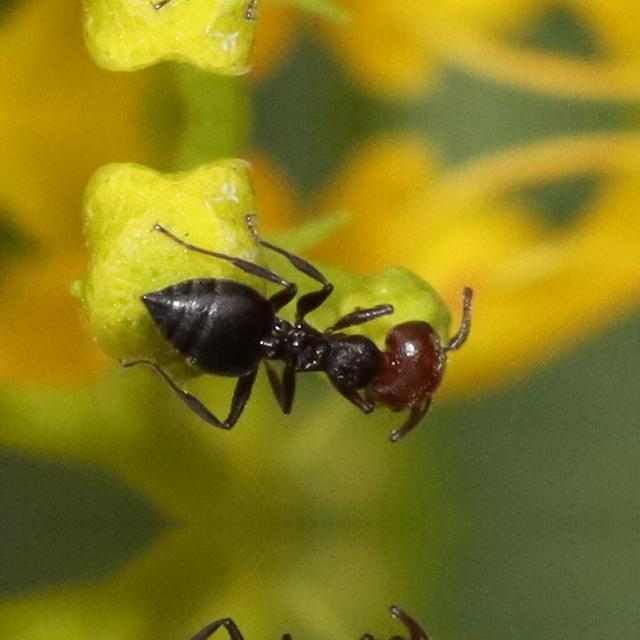Crematogaster: (114, 244, 460, 441)
